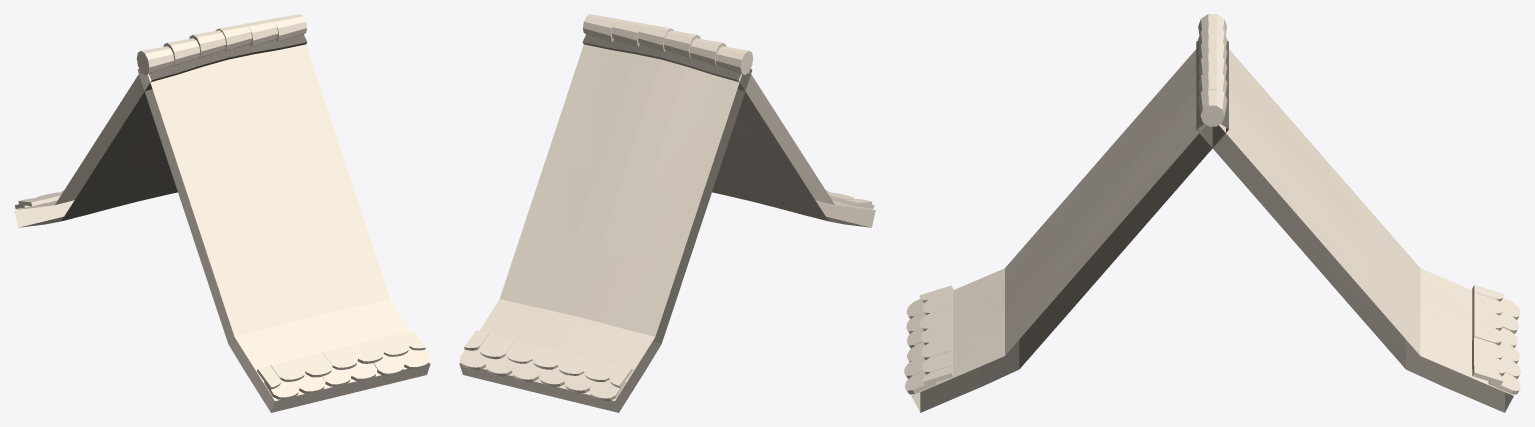
File: SM_VK_Roof_Mid.fbx
3 views of the same model, side by side, from view 1: azimuth 30°, elevation 25°; view 2: azimuth 150°, elevation 25°; view 3: azimuth 270°, elevation 25° (orthographic). The views are drawn at different scales.
Parts seen in each view (by area): view 1: SM_VK_Roof_Mid.001; view 2: SM_VK_Roof_Mid.001; view 3: SM_VK_Roof_Mid.001.
Boxes of the visible parts, x1,y1,x2,y2 form: SM_VK_Roof_Mid.001: [14, 14, 430, 412]; SM_VK_Roof_Mid.001: [459, 14, 875, 412]; SM_VK_Roof_Mid.001: [904, 14, 1520, 412].
Size of the model in its own units: 3.06 by 5 by 8.9.
